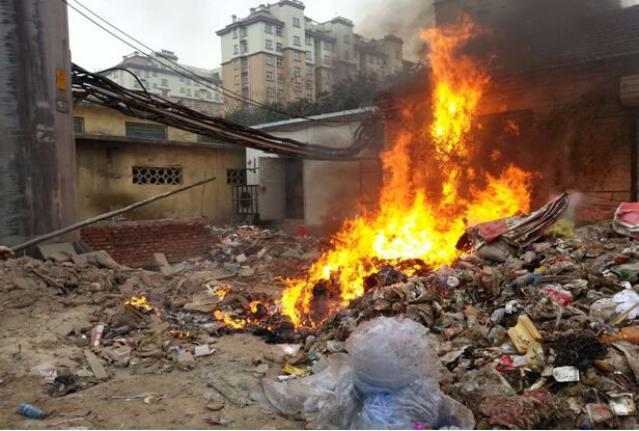fire: (351, 208, 453, 263), (431, 70, 487, 110), (381, 134, 408, 208), (488, 165, 528, 214), (433, 148, 465, 208), (432, 109, 471, 145), (461, 187, 502, 220), (327, 220, 352, 271), (425, 22, 473, 46), (282, 276, 300, 322), (427, 47, 456, 70), (456, 55, 496, 70), (342, 268, 361, 297), (410, 185, 431, 208), (307, 258, 328, 277)
